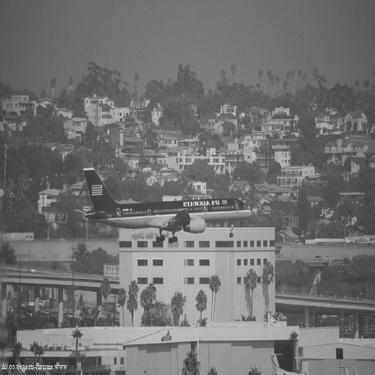airplane: (57, 155, 275, 233)
